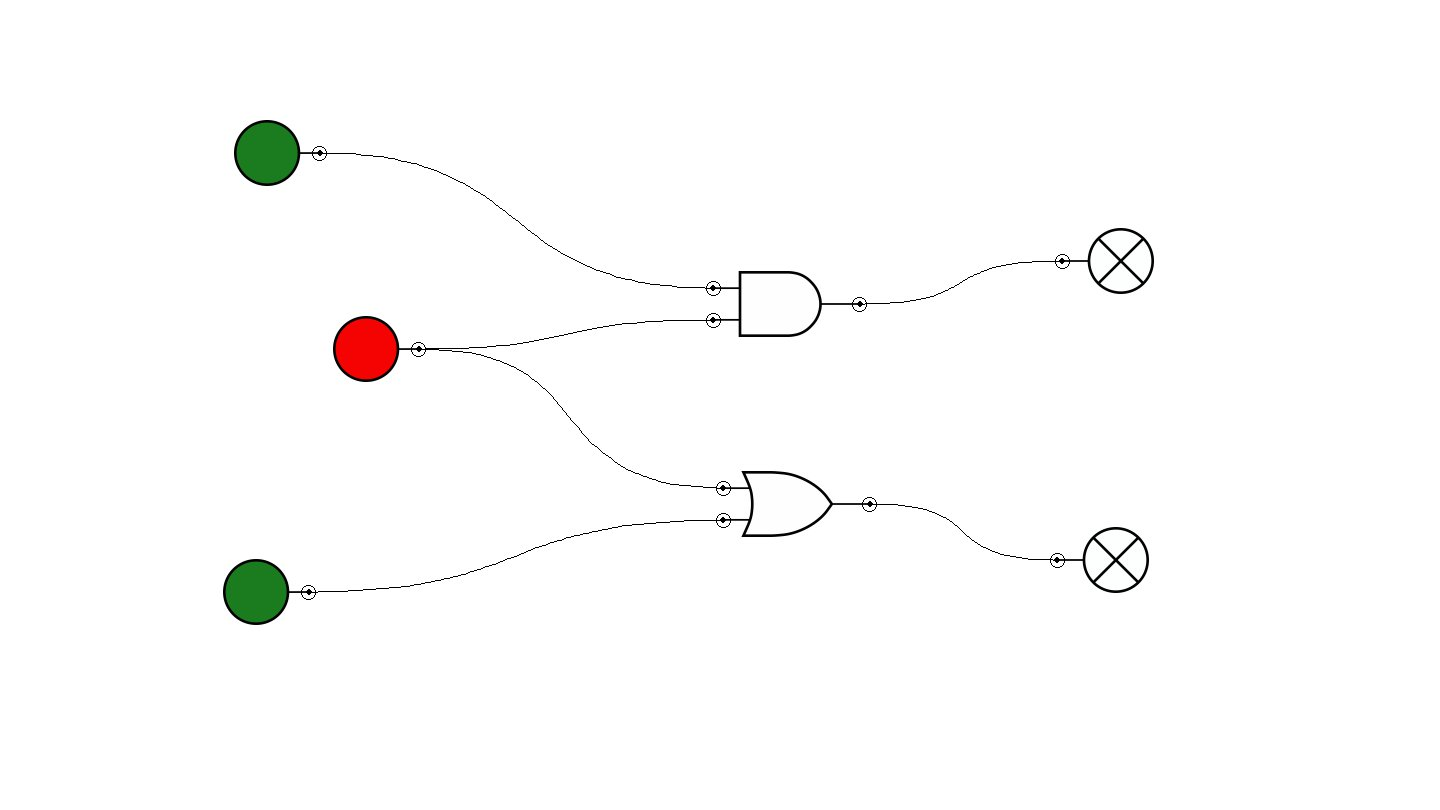and: (706, 271, 867, 337)
bulb: (1055, 228, 1154, 294), (1050, 527, 1149, 593)
or: (716, 471, 877, 537)
switch_False: (333, 316, 426, 382)
switch_True: (223, 559, 316, 625), (234, 120, 327, 186)
